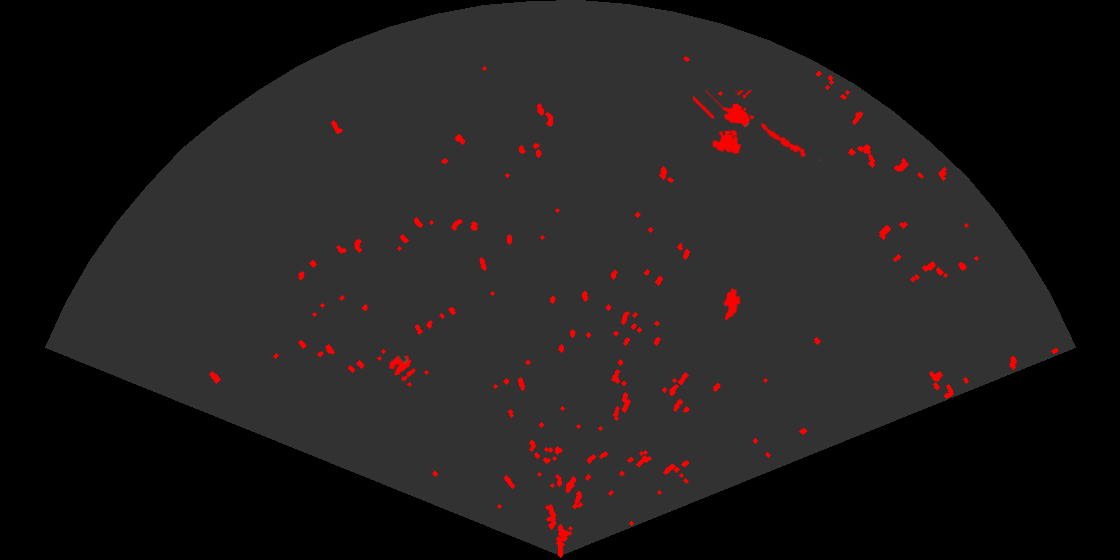AUV: (722, 287, 743, 322)
ball: (387, 354, 417, 383)
cage: (693, 90, 756, 156)
chain: (750, 118, 823, 162)
